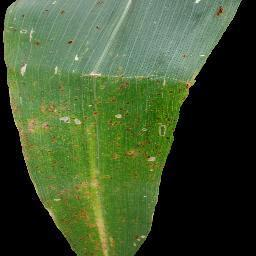Corn_Common_Rust: (0, 61, 201, 256), (0, 0, 27, 61), (31, 47, 84, 74), (90, 56, 131, 87), (208, 2, 246, 34), (171, 53, 220, 64), (46, 0, 66, 20), (57, 29, 80, 46), (25, 39, 50, 52), (26, 3, 40, 25), (97, 20, 112, 37), (92, 0, 102, 15), (184, 0, 204, 7)
